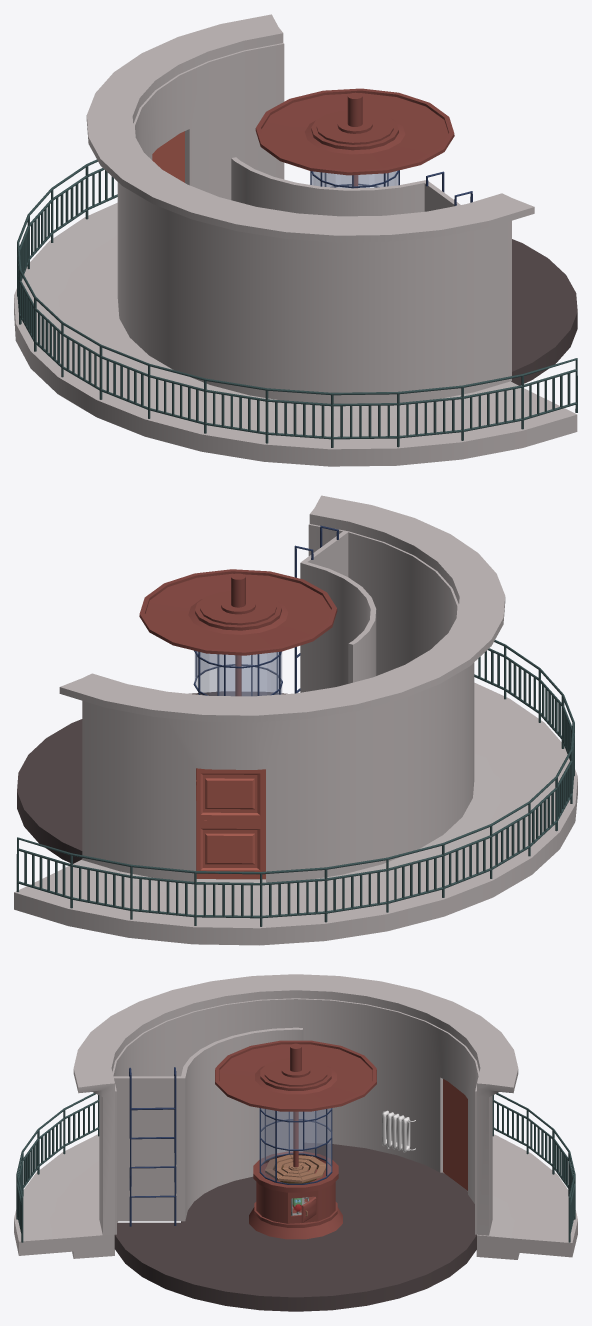
Rendered from OperatingRoom.fbx.
3 views of the same model, one above another, from view 1: azimuth 30°, elevation 25°; view 2: azimuth 150°, elevation 25°; view 3: azimuth 270°, elevation 25° (orthographic). The views are drawn at different scales.
Parts seen in each view (by area): view 1: outsidewallOperatingRoom, Balcony, fenceBalcony, wallOperatingRoom, hingePilar, floorOperatingRoom, wallStairs.001, pillarGlass, operatingRoomDoor; view 2: outsidewallOperatingRoom, Balcony, fenceBalcony, hingePilar, wallOperatingRoom, wallStairs.001, operatingRoomDoor, floorOperatingRoom, pillarGlass, pillarGlassFrame; view 3: floorOperatingRoom, wallOperatingRoom, wallStairs.001, outsidewallOperatingRoom, Balcony, hingePilar, fenceBalcony, pillarGlass, operatingRoomDoor, pillarGlassFrame, Plane, radiator.002 (+1 smaller).
Part boxes in pixels (x1,y1,x2,y2): outsidewallOperatingRoom: (86, 14, 534, 403); Balcony: (14, 202, 577, 466); fenceBalcony: (17, 159, 577, 447); wallOperatingRoom: (133, 43, 284, 199); hingePilar: (255, 88, 454, 188); floorOperatingRoom: (511, 239, 577, 385); wallStairs.001: (231, 157, 460, 216); pillarGlass: (311, 171, 398, 188); operatingRoomDoor: (152, 131, 184, 182); outsidewallOperatingRoom: (59, 495, 505, 882); Balcony: (14, 682, 577, 945); fenceBalcony: (16, 640, 574, 926); hingePilar: (139, 569, 337, 800); wallOperatingRoom: (308, 524, 458, 675); wallStairs.001: (300, 531, 376, 692); operatingRoomDoor: (196, 768, 265, 879); floorOperatingRoom: (17, 691, 287, 870); pillarGlass: (195, 651, 281, 696); pillarGlassFrame: (193, 650, 282, 696); floorOperatingRoom: (114, 1143, 476, 1311); wallOperatingRoom: (112, 998, 479, 1234); wallStairs.001: (113, 1027, 303, 1221); outsidewallOperatingRoom: (73, 974, 518, 1235); Balcony: (14, 1134, 577, 1259); hingePilar: (215, 1040, 376, 1239); fenceBalcony: (16, 1093, 575, 1242); pillarGlass: (261, 1108, 331, 1180); operatingRoomDoor: (443, 1079, 467, 1190); pillarGlassFrame: (259, 1108, 332, 1184); Plane: (129, 1067, 176, 1226); radiator.002: (382, 1110, 415, 1152).
Bounding box in the file's own units: 887 × 408 × 1070.
